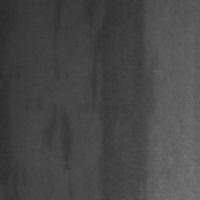inclusion: (90, 2, 162, 198), (0, 47, 26, 199), (51, 99, 80, 197), (46, 0, 70, 85)
